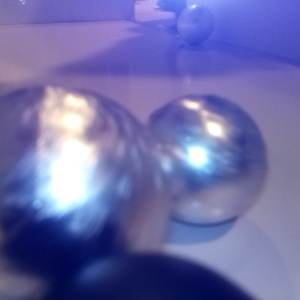alive_ball: (1, 85, 169, 300), (140, 94, 267, 225)
dead_ball: (30, 254, 264, 300)
